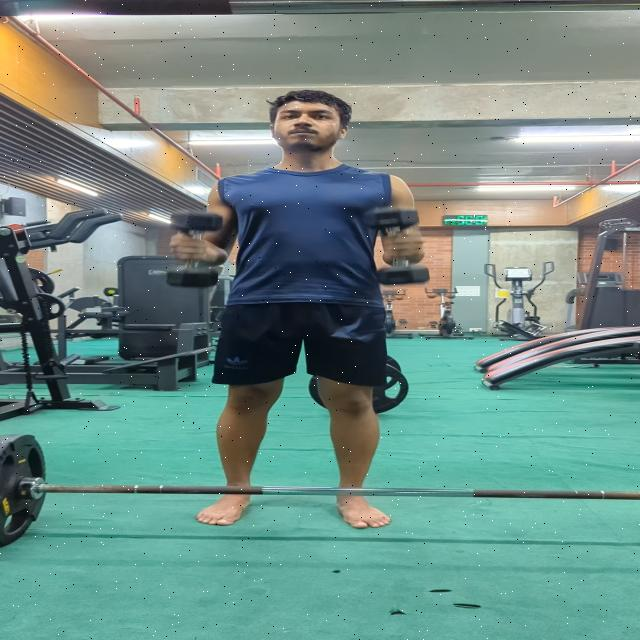Normal_DumbbellBicepCurls: (155, 85, 445, 540)
